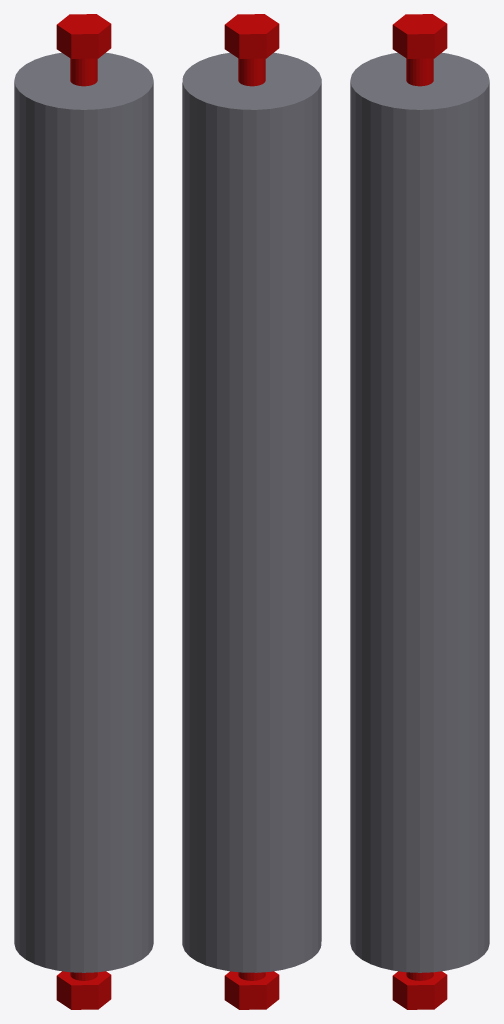
File: валик+.fbx
3 views of the same model, side by side, from view 1: azimuth 90°, elevation 25°; view 2: azimuth 150°, elevation 25°; view 3: azimuth 270°, elevation 25° (orthographic).
Parts seen in each view (by area): view 1: вал, ботл1, болт2; view 2: вал, ботл1, болт2; view 3: вал, ботл1, болт2.
Part boxes in pixels (box(x1,y1,x2,y2)): вал: box(14, 52, 153, 972); ботл1: box(56, 14, 111, 86); болт2: box(56, 971, 111, 1009); вал: box(182, 52, 321, 972); ботл1: box(224, 14, 279, 86); болт2: box(224, 971, 279, 1009); вал: box(350, 52, 489, 972); ботл1: box(392, 14, 447, 86); болт2: box(392, 971, 447, 1009).
Size of the model in its own units: 0.06 by 0.4635 by 0.06.
